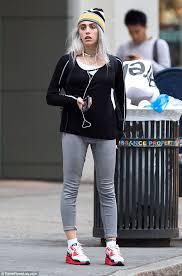Person: (43, 5, 138, 275)
